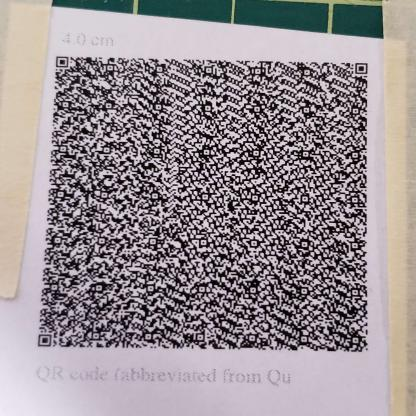qr: (35, 51, 373, 355)
